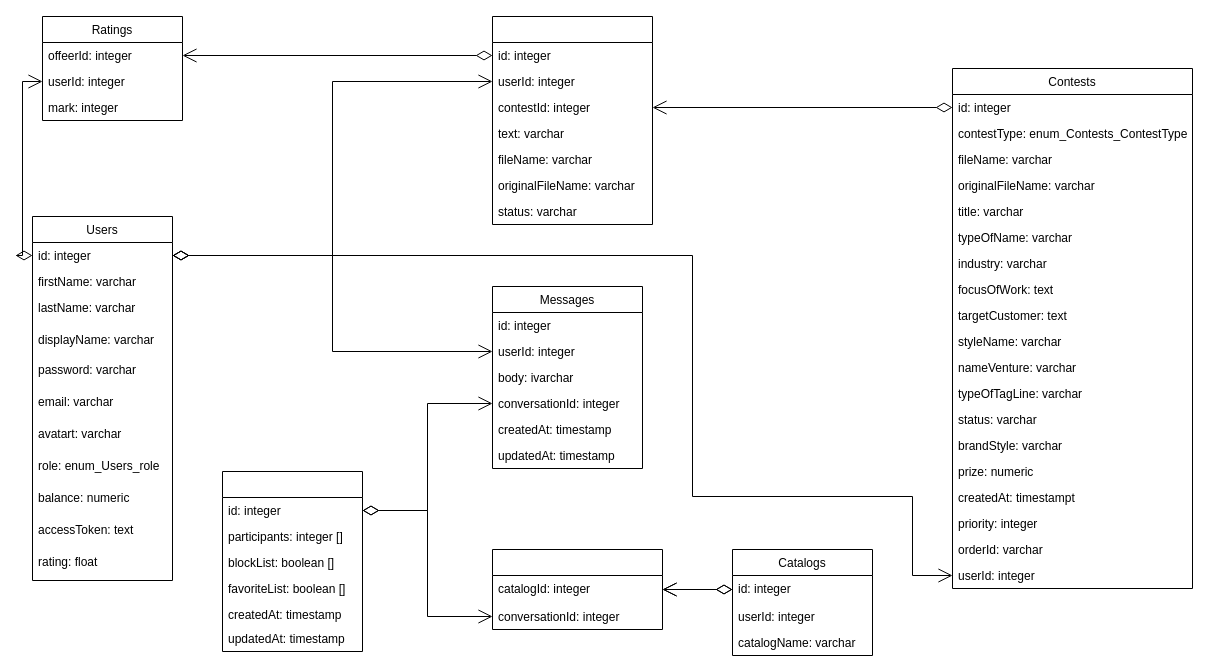
This 1209x672 diagram has some shape labels left out. The shapes that lost their labels are listed below. From the top down, each one's box as (x1, y1, x2, y2) in pixels, then its label:
(492, 16, 652, 224): Offers
(222, 470, 362, 652): Conversations
(492, 548, 662, 630): Catalogs_Conversations
